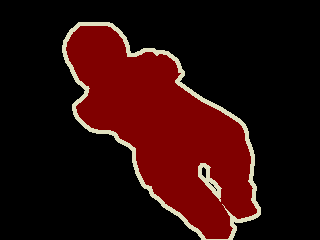person: (64, 19, 261, 240)
